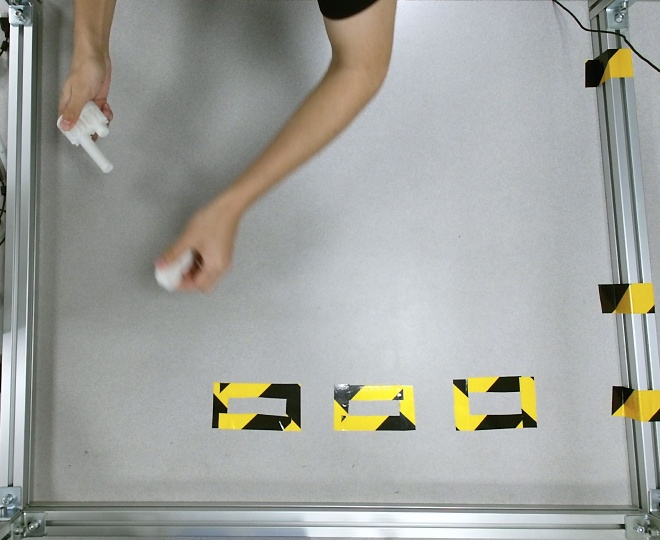stage_3: (57, 101, 112, 173)
